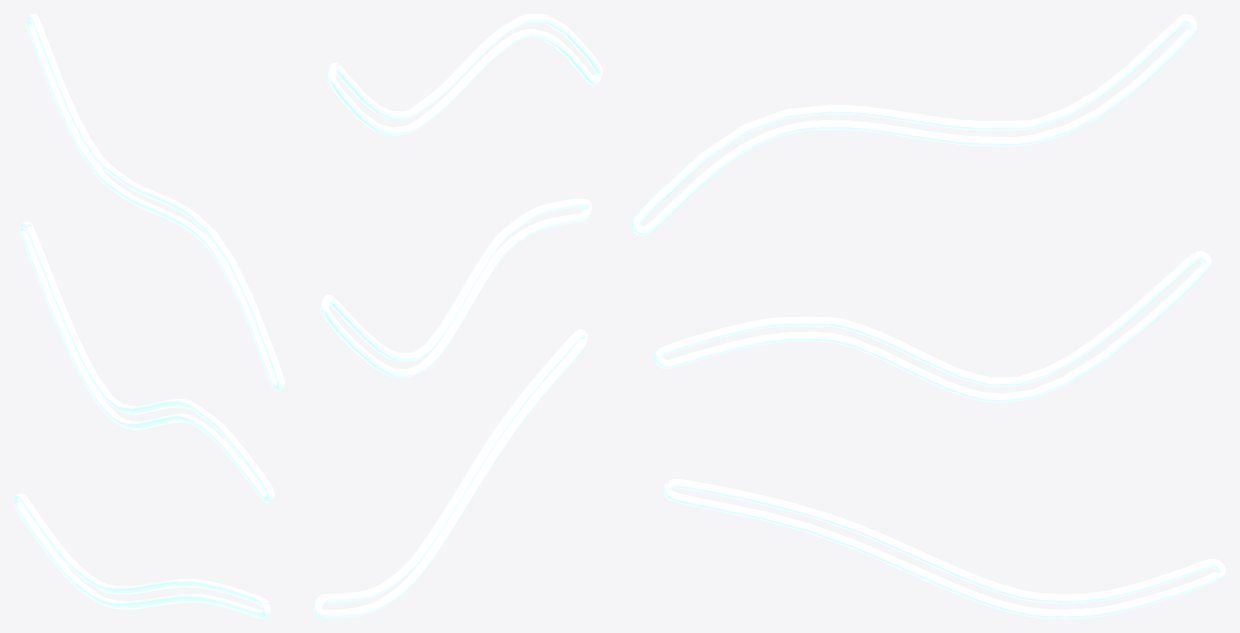
The model's file is Wings.glb.
3 views of the same model, side by side, from view 1: azimuth 30°, elevation 25°; view 2: azimuth 150°, elevation 25°; view 3: azimuth 270°, elevation 25° (orthographic). The views are drawn at different scales.
Parts seen in each view (by area): view 1: Trace; view 2: Trace; view 3: Trace.
Boxes of the visible parts, left/top/right/bottom form: Trace: left=14, top=14, right=284, bottom=618; Trace: left=313, top=14, right=602, bottom=618; Trace: left=631, top=14, right=1225, bottom=618.
Size of the model in its own units: 0.06 by 4.22 by 3.77.
